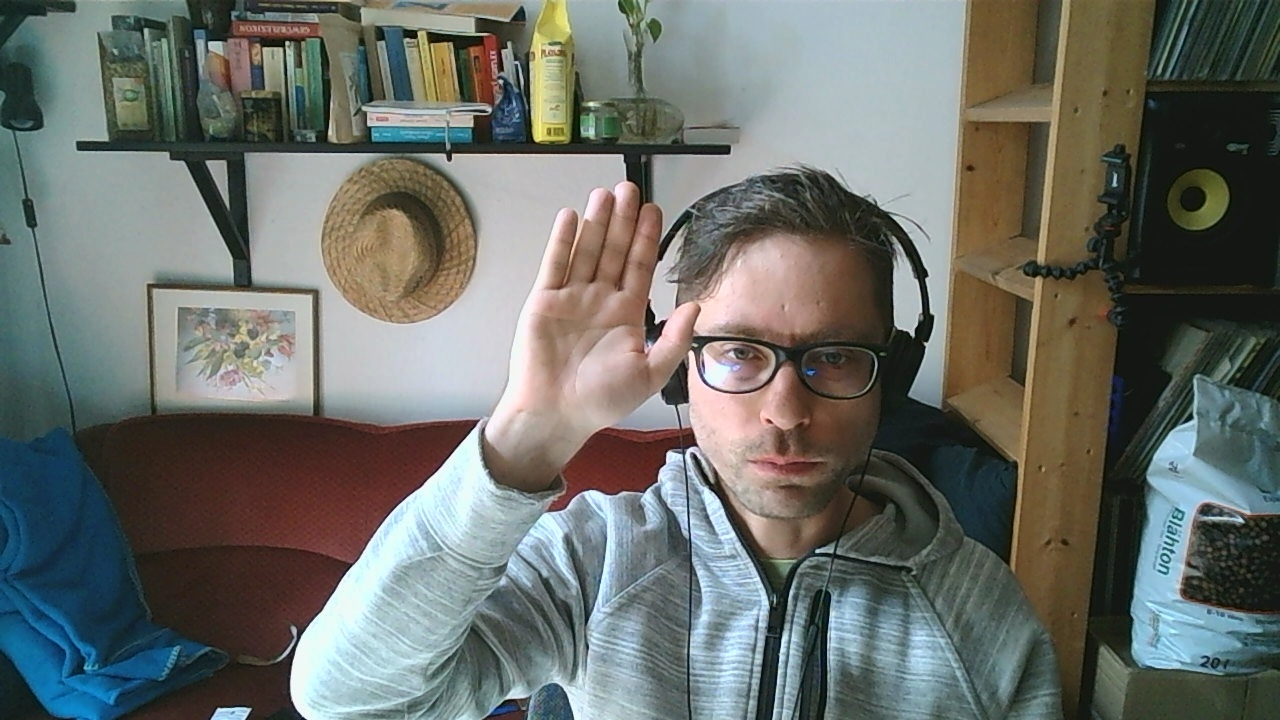hello: (506, 178, 702, 440)
